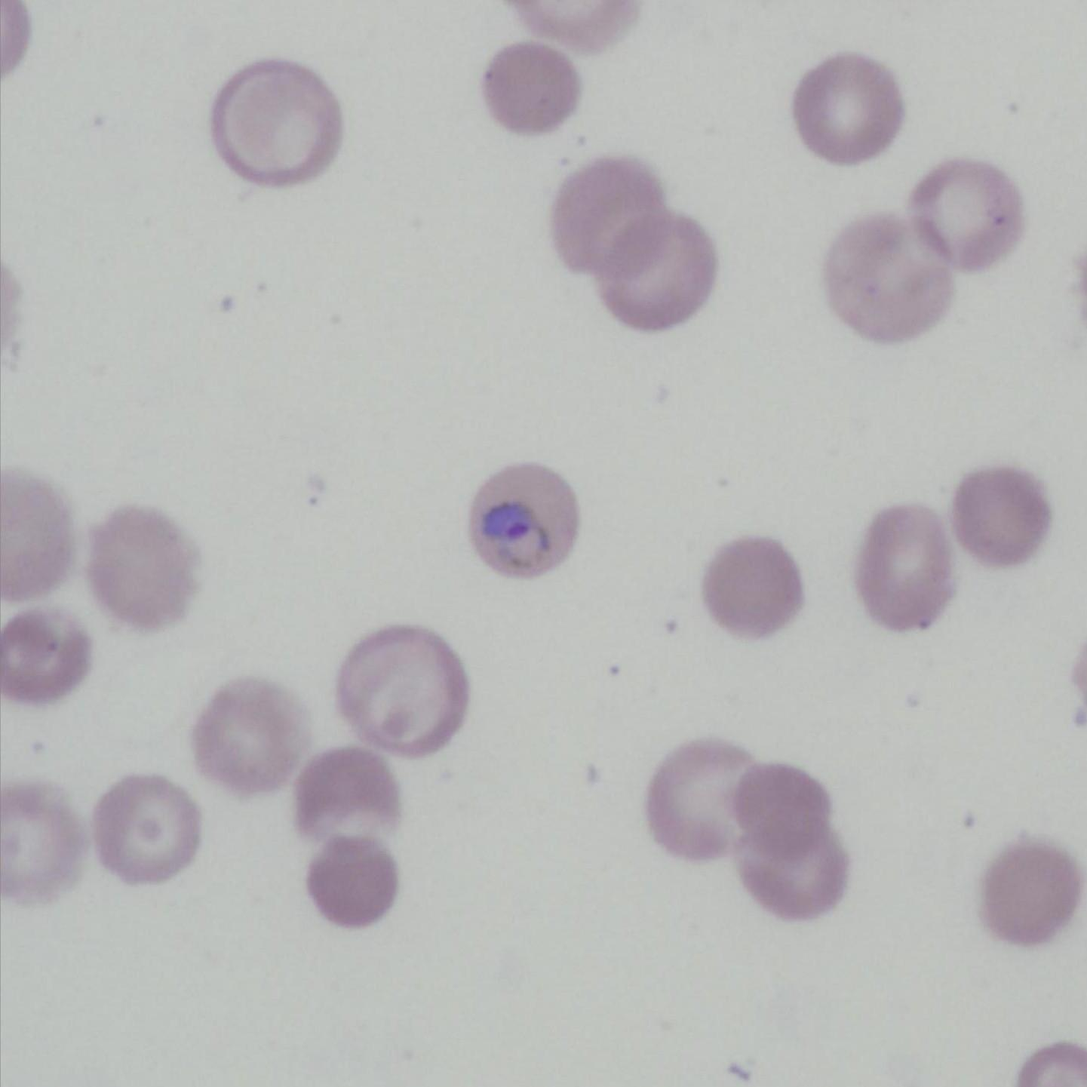Infected: (468, 466, 576, 580)
Uninfected: (822, 206, 947, 342), (211, 61, 341, 182), (345, 628, 466, 753), (598, 208, 712, 333), (645, 734, 759, 857), (91, 508, 201, 631), (189, 679, 306, 794), (909, 157, 1024, 269), (860, 504, 956, 630), (551, 161, 653, 275), (794, 55, 901, 161), (739, 824, 852, 924), (96, 770, 199, 879), (973, 840, 1077, 946), (0, 472, 81, 604), (703, 530, 800, 639), (0, 779, 80, 903), (294, 749, 395, 841), (954, 462, 1042, 565), (483, 38, 581, 129), (0, 613, 97, 704), (306, 836, 403, 925), (737, 760, 831, 851)
